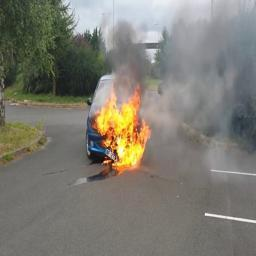fire: (92, 81, 151, 170)
